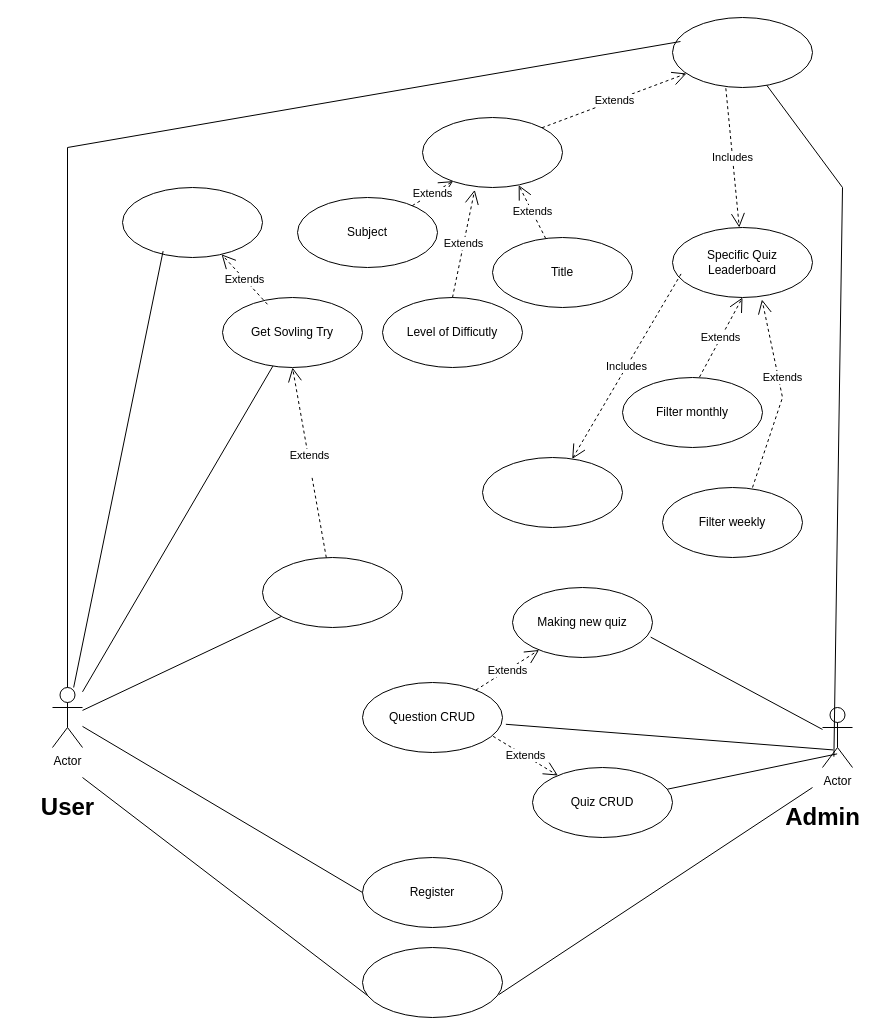
This 889x1035 diagram has some shape labels left out. The shapes that lost their labels are listed below. From the top down, each one's box as (x1, y1, x2, y2) in pixels, then its label:
(672, 16, 812, 88): Get Quizzes
(422, 116, 562, 188): Search Quiz
(122, 186, 262, 258): Get My Solving Tries
(482, 456, 622, 528): Filter all
(262, 556, 402, 628): Quiz Solving Try
(362, 946, 502, 1018): Login
